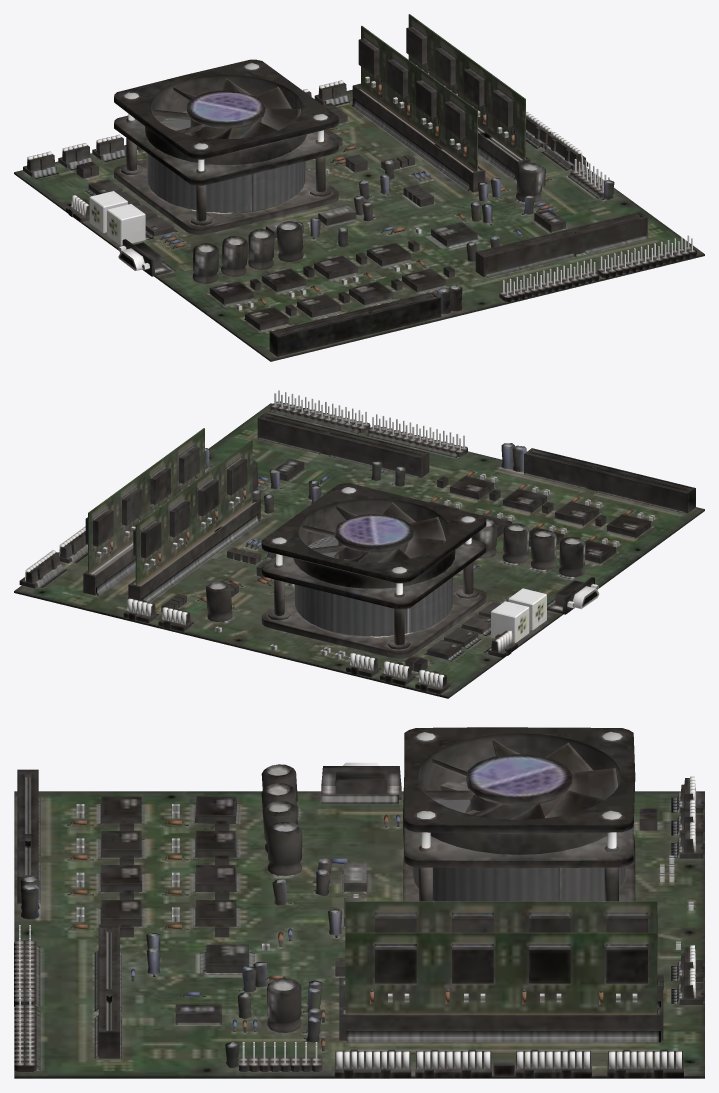
The model's file is circuit_board.glb.
3 views of the same model, one above another, from view 1: azimuth 30°, elevation 25°; view 2: azimuth 150°, elevation 25°; view 3: azimuth 270°, elevation 25° (orthographic). The views are drawn at different scales.
Visible parts, largest first — view 1: circuit_board; view 2: circuit_board; view 3: circuit_board.
Part boxes in pixels (x1,y1,x2,y2): circuit_board: (14, 14, 704, 361); circuit_board: (14, 390, 704, 698); circuit_board: (14, 727, 704, 1078).
Size of the model in its own units: 0.4035 by 0.0783 by 0.3974.
2 materials, 2 textured.
